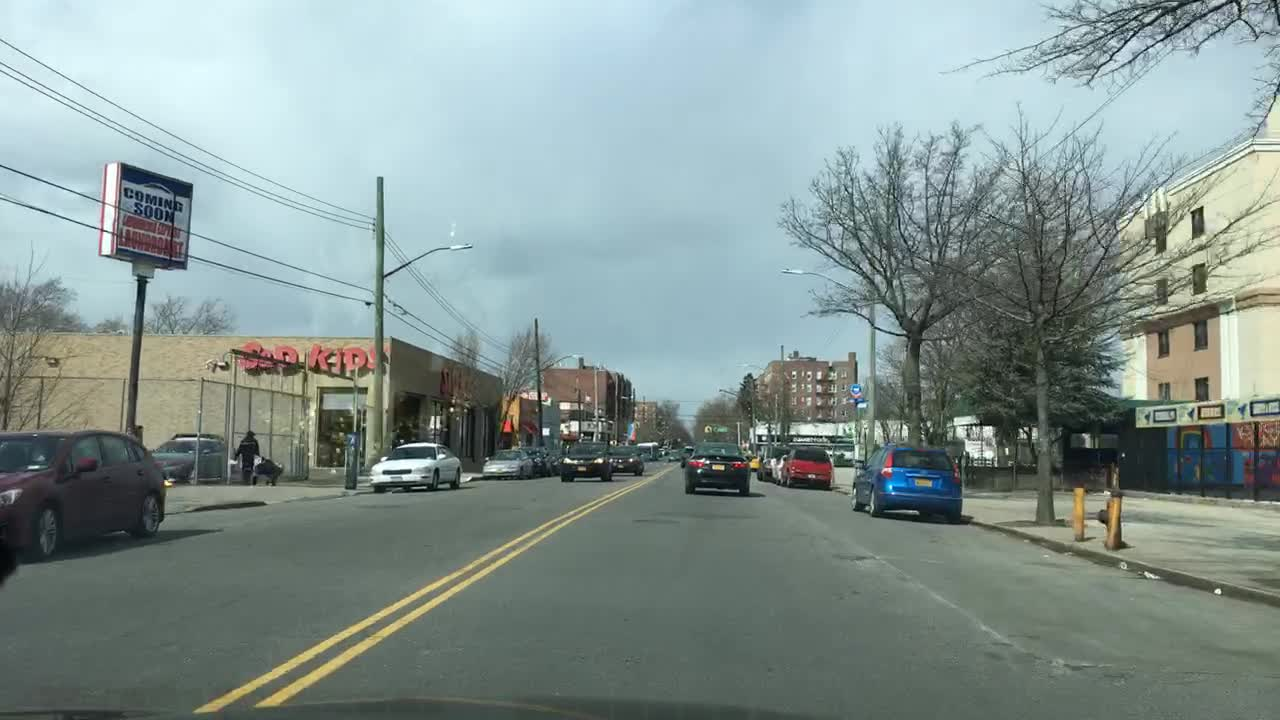bus: (645, 442, 658, 462)
car: (0, 431, 167, 559), (852, 446, 962, 521), (369, 444, 461, 491), (150, 437, 224, 481), (687, 443, 750, 493), (781, 447, 831, 488), (561, 443, 610, 480), (482, 451, 534, 477), (517, 446, 550, 477), (608, 447, 642, 474), (755, 448, 771, 481), (773, 449, 782, 481), (680, 447, 693, 466), (668, 449, 680, 461)
person: (233, 429, 259, 484)
